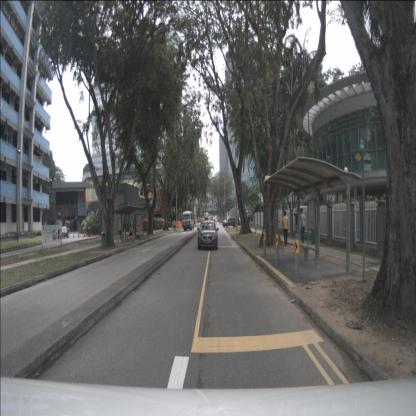human-pedestrian-adult: (282, 211, 289, 247), (294, 209, 300, 243), (300, 209, 306, 242), (199, 214, 205, 231), (122, 220, 126, 240), (129, 224, 134, 240), (120, 220, 123, 240), (250, 215, 253, 228), (173, 218, 176, 231), (247, 214, 250, 227), (170, 216, 172, 228)
movable_object-trafficcone: (83, 232, 86, 237), (73, 232, 75, 238), (62, 234, 64, 238), (68, 234, 70, 238), (78, 233, 80, 237)
vehicle-bus-rigid: (182, 211, 194, 231), (204, 212, 209, 222)
vehicle-car: (197, 221, 218, 250), (222, 216, 238, 228), (60, 226, 68, 239), (210, 215, 214, 222)
